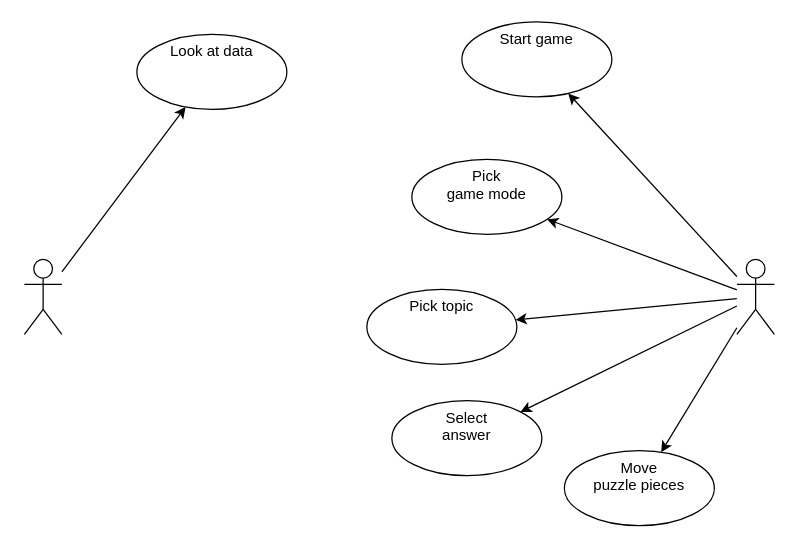
Some shapes in this 799 by 548 pixel diagram are drawn without their labels. Each missing label, with the centre of its shape:
"Parent" goes at [42,296].
"Player" goes at [755,296].
